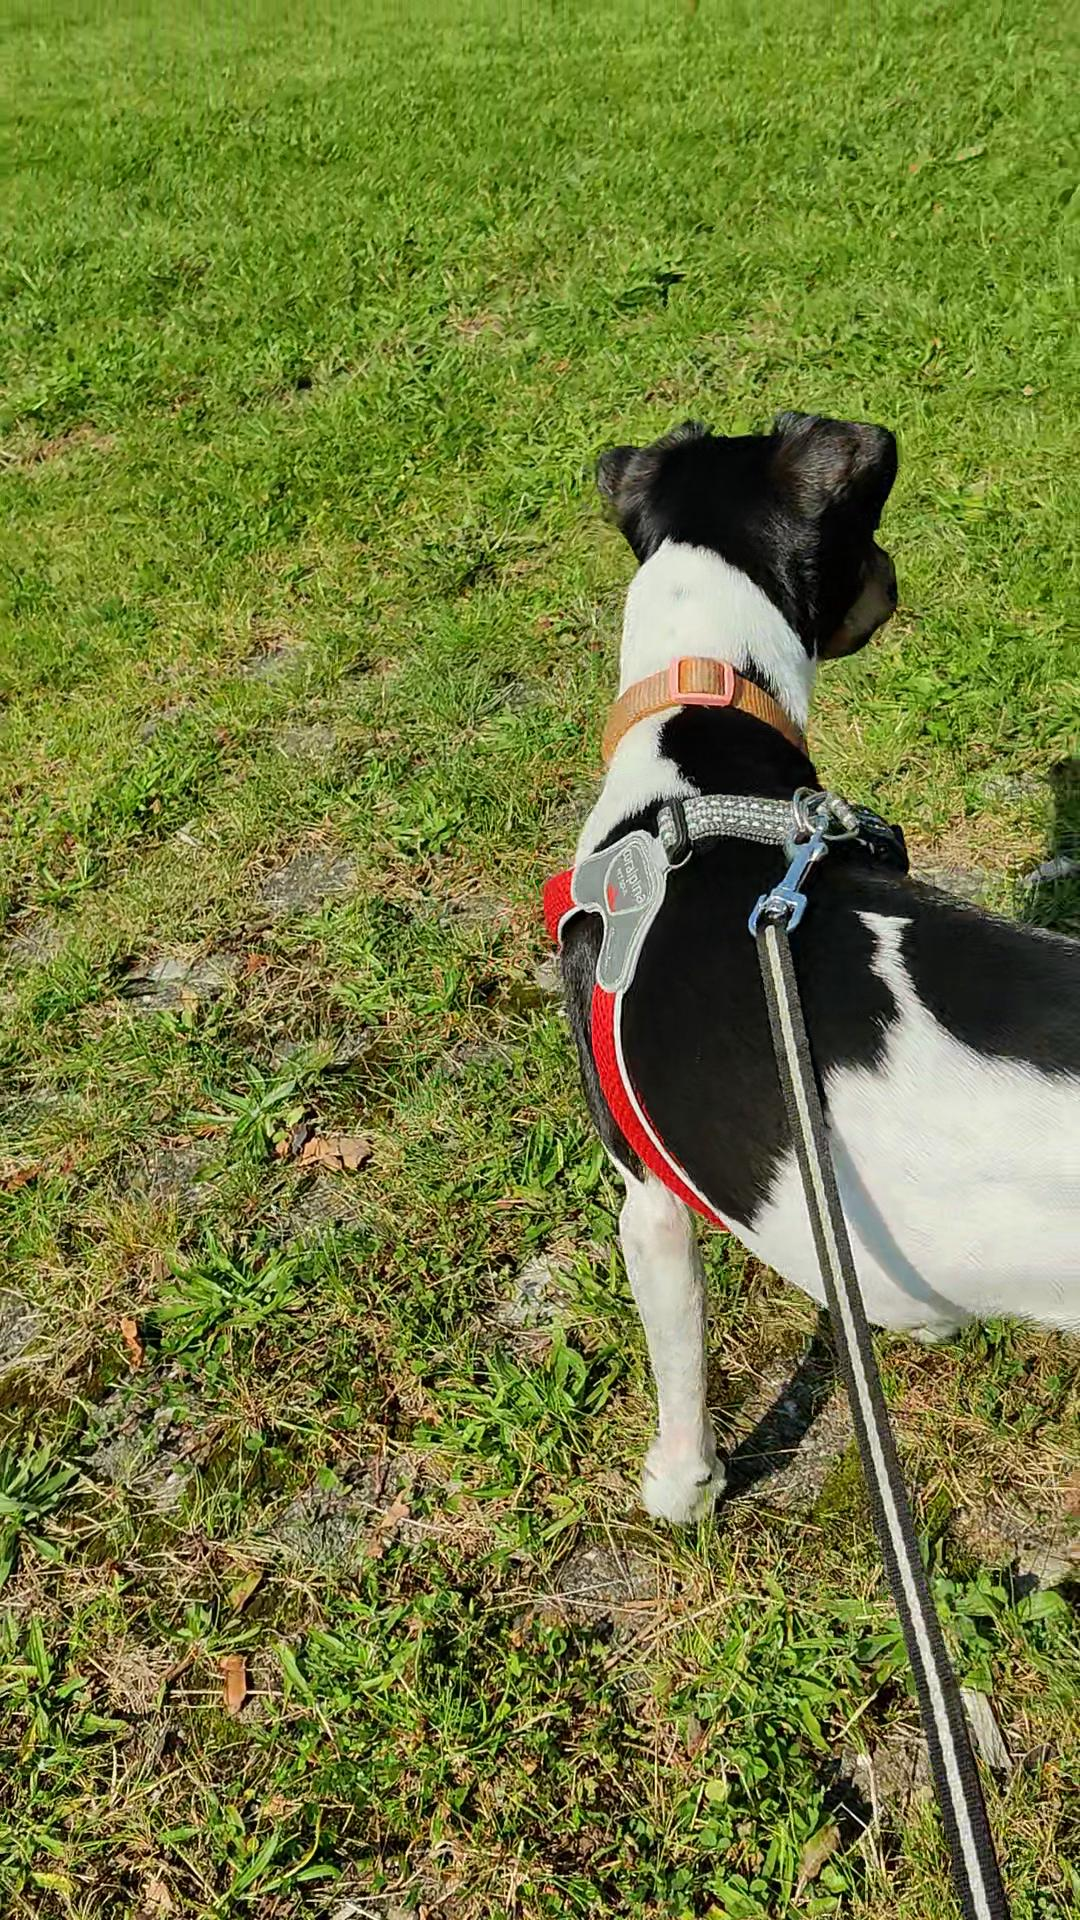Dog: (534, 404, 1079, 1540)
